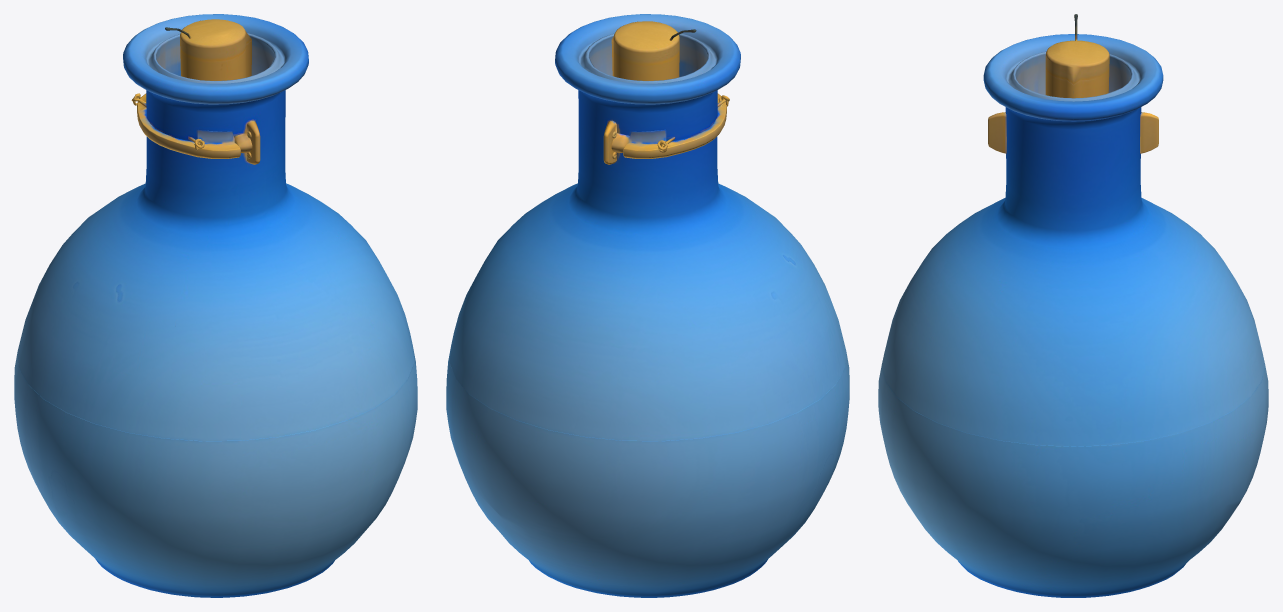
File: lamp.glb
The picture shows the model from 3 angles, left to right: view 1: azimuth 30°, elevation 25°; view 2: azimuth 150°, elevation 25°; view 3: azimuth 270°, elevation 25°; orthographic projection. The views are drawn at different scales.
Visible parts, largest first — view 1: tripo_node_9d9e05f9-87da-4d20-854a-07391184d6f3; view 2: tripo_node_9d9e05f9-87da-4d20-854a-07391184d6f3; view 3: tripo_node_9d9e05f9-87da-4d20-854a-07391184d6f3.
Part boxes in pixels (x1,y1,x2,y2): tripo_node_9d9e05f9-87da-4d20-854a-07391184d6f3: [14, 14, 417, 597]; tripo_node_9d9e05f9-87da-4d20-854a-07391184d6f3: [446, 14, 849, 597]; tripo_node_9d9e05f9-87da-4d20-854a-07391184d6f3: [878, 14, 1268, 597].
Bounding box in the file's own units: 0.6922 × 1 × 0.6922.
1 material, 1 textured.
